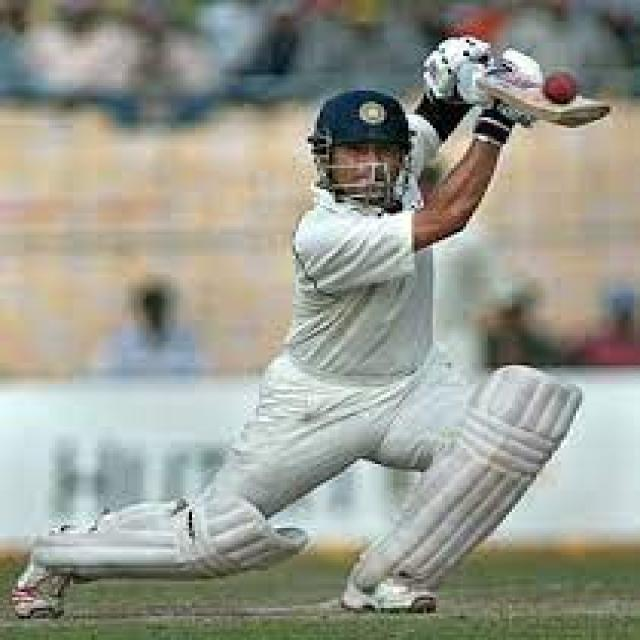toe: (529, 85, 617, 138)
